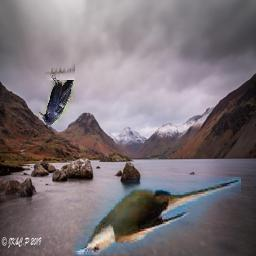Crow: (39, 63, 76, 126)
Cuckoo: (75, 177, 242, 255)
